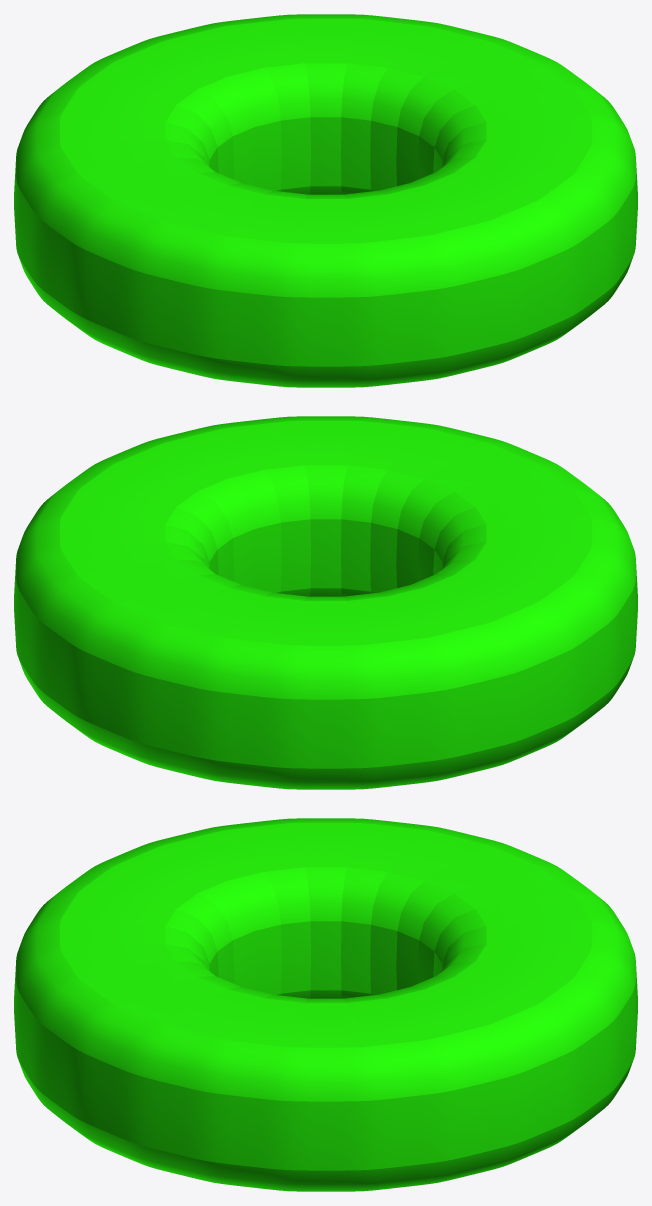
Rendered from Lifesaver - Green.FBX.
3 views of the same model, one above another, from view 1: azimuth 30°, elevation 25°; view 2: azimuth 150°, elevation 25°; view 3: azimuth 270°, elevation 25° (orthographic).
Visible parts, largest first — view 1: Tube004; view 2: Tube004; view 3: Tube004.
Part boxes in pixels (box(x1,y1,x2,y2)): Tube004: box(14, 14, 637, 387); Tube004: box(14, 416, 637, 789); Tube004: box(14, 818, 637, 1191).
Size of the model in its own units: 7.9 by 2 by 7.9.
